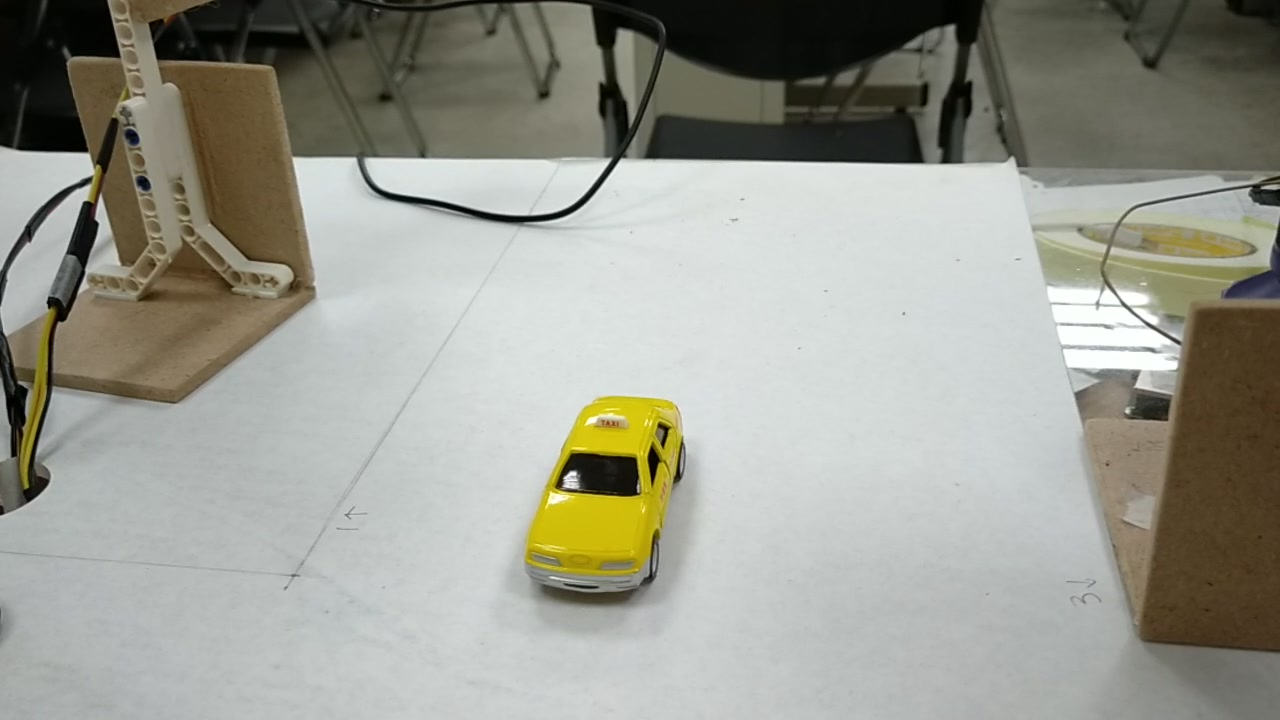car: (521, 395, 685, 595)
